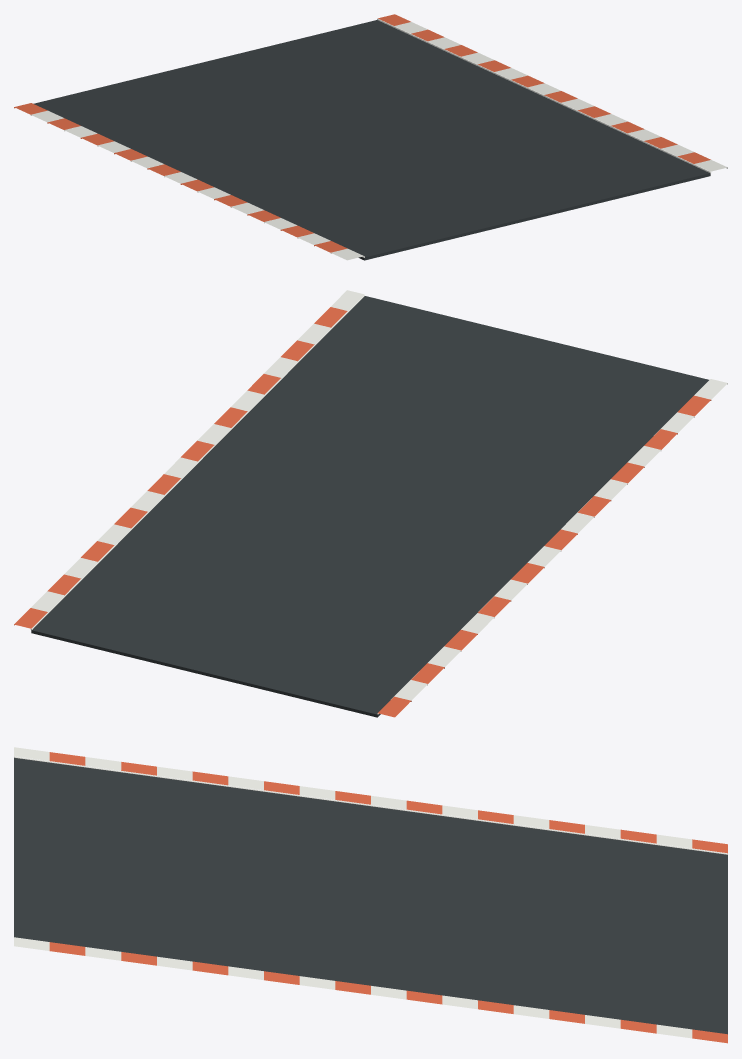
The model's file is grand-prix-circuit-and-open-wheel-uphill-ramp-4b85de02__15194.glb.
The picture shows the model from 3 angles, top to bottom: view 1: azimuth 30°, elevation 25°; view 2: azimuth 150°, elevation 25°; view 3: azimuth 270°, elevation 25°; orthographic projection. The views are drawn at different scales.
Visible parts, largest first — view 1: uphill-ramp; view 2: uphill-ramp; view 3: uphill-ramp.
Boxes of the visible parts, x1=… form: uphill-ramp: x1=14, y1=14, x2=727, y2=260; uphill-ramp: x1=14, y1=290, x2=727, y2=717; uphill-ramp: x1=14, y1=747, x2=727, y2=1043.
Bounding box in the file's own units: 13.2 × 3.15 × 20.01.
